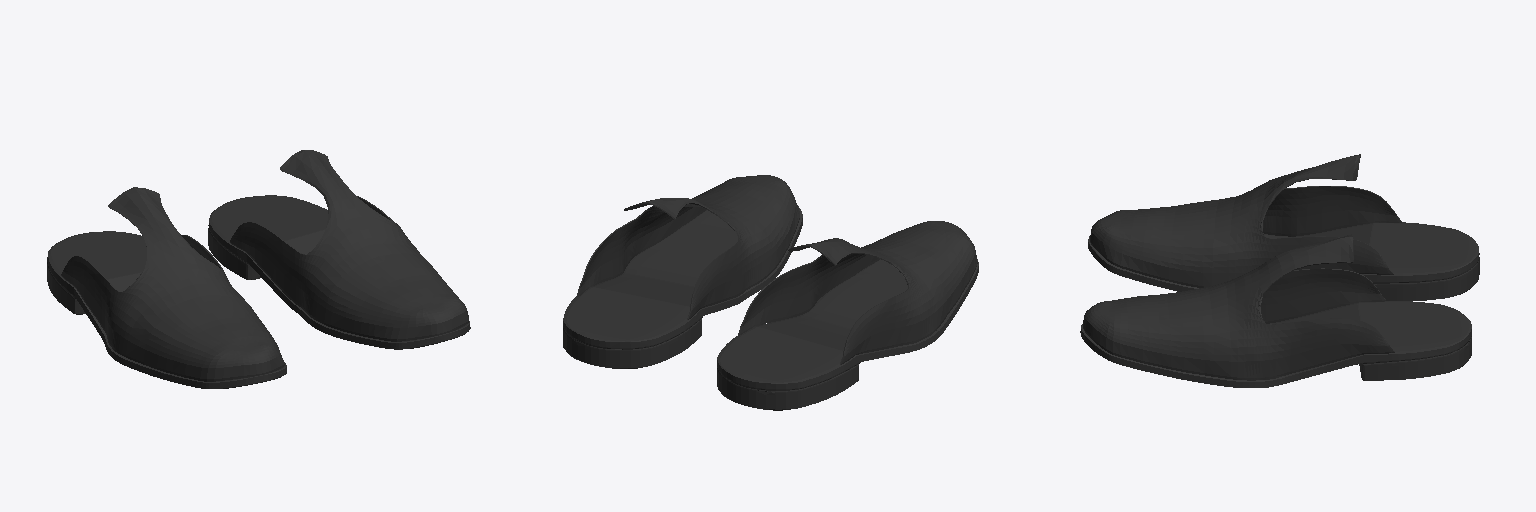
The model's file is Suit_Shoe_Base_Section.obj.
3 renders of one model, left to right at view 1: azimuth 30°, elevation 25°; view 2: azimuth 150°, elevation 25°; view 3: azimuth 270°, elevation 25°, orthographic.
Visible parts, largest first — view 1: polySurface33, polySurface39 pPlane15; view 2: polySurface39 pPlane15, polySurface33; view 3: polySurface33, polySurface39 pPlane15.
Boxes of the visible parts, x1=… form: polySurface33: x1=208, y1=150, x2=470, y2=349; polySurface39 pPlane15: x1=47, y1=187, x2=286, y2=388; polySurface39 pPlane15: x1=717, y1=221, x2=978, y2=410; polySurface33: x1=563, y1=175, x2=802, y2=368; polySurface33: x1=1080, y1=234, x2=1471, y2=387; polySurface39 pPlane15: x1=1088, y1=154, x2=1479, y2=300.
Size of the model in its own units: 29.57 by 11 by 33.25.